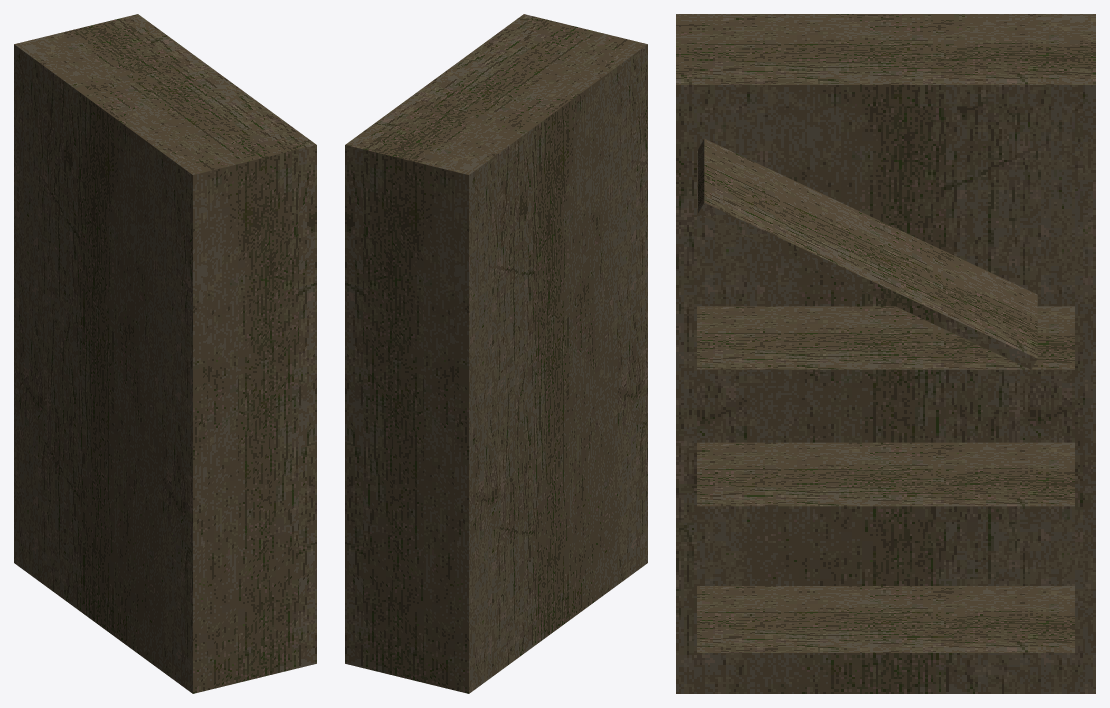
File: shelf.glb
The picture shows the model from 3 angles, left to right: view 1: azimuth 30°, elevation 25°; view 2: azimuth 150°, elevation 25°; view 3: azimuth 270°, elevation 25°; orthographic projection. The views are drawn at different scales.
Visible parts, largest first — view 1: Shelf; view 2: Shelf; view 3: Shelf.
Boxes of the visible parts, x1,y1,x2,y2 form: Shelf: [14, 14, 316, 693]; Shelf: [345, 14, 647, 693]; Shelf: [676, 14, 1095, 693].
Bounding box in the file's own units: 0.4 × 1.6 × 1.
Materials: 1 (1 with a texture image).
